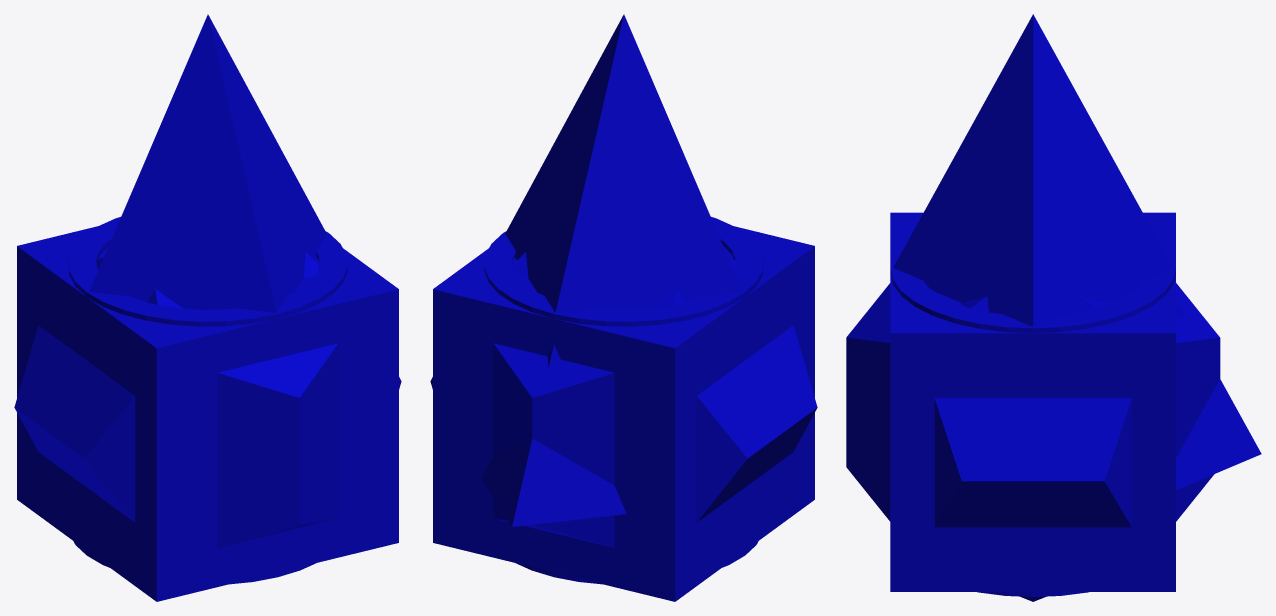
File: triangular_pyramid.obj
The picture shows the model from 3 angles, left to right: view 1: azimuth 30°, elevation 25°; view 2: azimuth 150°, elevation 25°; view 3: azimuth 270°, elevation 25°; orthographic projection. The views are drawn at different scales.
Visible parts, largest first — view 1: cube_Cube.001, diamond_Cone.007, dodecahedron_Cube.002, hollow_cylinder_Cylinder.001; view 2: cube_Cube.001, diamond_Cone.007, dodecahedron_Cube.002, pyramid_Cone.008, hollow_cylinder_Cylinder.001; view 3: cube_Cube.001, diamond_Cone.007, dodecahedron_Cube.002, hollow_cylinder_Cylinder.001, pyramid_Cone.008.
Boxes of the visible parts, box(x1,y1,x2,y2) form: cube_Cube.001: box(17, 226, 398, 601); diamond_Cone.007: box(89, 14, 326, 312); dodecahedron_Cube.002: box(14, 252, 401, 547); hollow_cylinder_Cylinder.001: box(68, 217, 347, 584); cube_Cube.001: box(433, 226, 814, 601); diamond_Cone.007: box(505, 14, 742, 312); dodecahedron_Cube.002: box(430, 252, 817, 547); pyramid_Cone.008: box(481, 344, 626, 526); hollow_cylinder_Cylinder.001: box(484, 217, 763, 584); cube_Cube.001: box(890, 212, 1175, 591); diamond_Cone.007: box(893, 14, 1172, 326); dodecahedron_Cube.002: box(846, 283, 1220, 601); hollow_cylinder_Cylinder.001: box(890, 239, 1175, 596); pyramid_Cone.008: box(1176, 299, 1261, 489).
Size of the model in its own units: 2.62 by 4.31 by 2.91.
